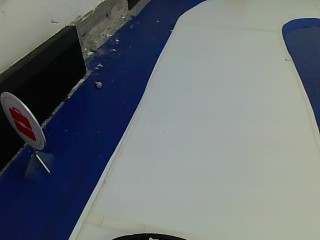company: (0, 91, 46, 148)
